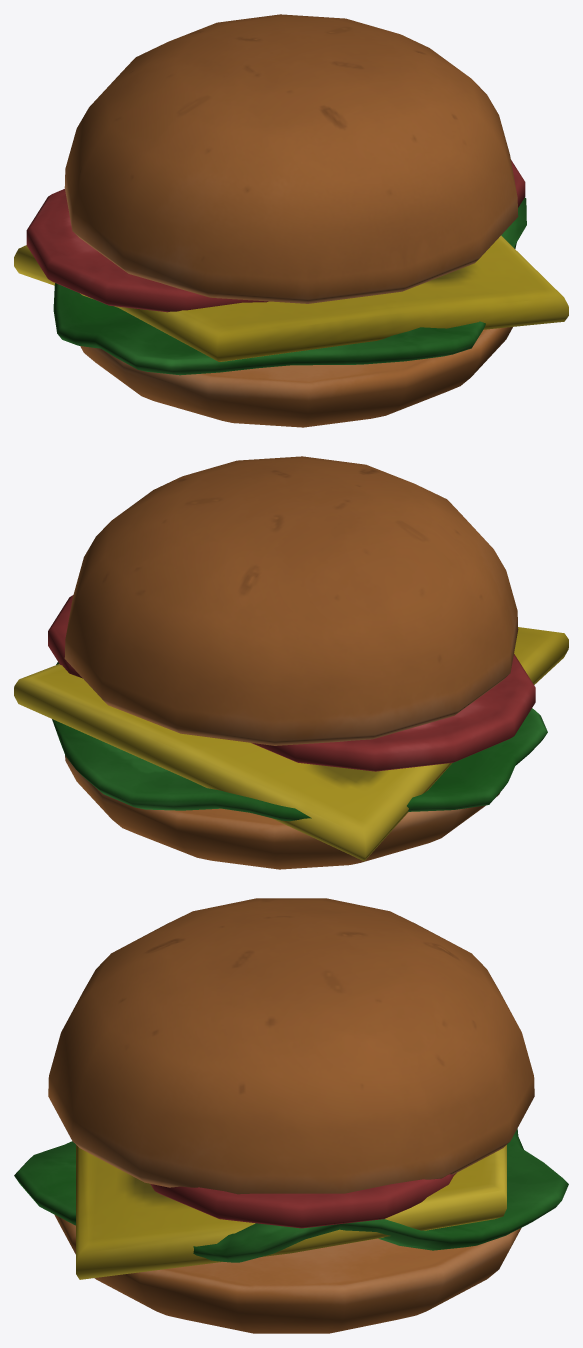
The model's file is MSH_Hamburguesa_P_L_Q_J.fbx.
The picture shows the model from 3 angles, top to bottom: view 1: azimuth 30°, elevation 25°; view 2: azimuth 150°, elevation 25°; view 3: azimuth 270°, elevation 25°; orthographic projection. The views are drawn at different scales.
Visible parts, largest first — view 1: MSH_Hamburguesa_P_C_L_Q_J; view 2: MSH_Hamburguesa_P_C_L_Q_J; view 3: MSH_Hamburguesa_P_C_L_Q_J.
Boxes of the visible parts, bbox=[...] form: MSH_Hamburguesa_P_C_L_Q_J: bbox=[14, 14, 568, 427]; MSH_Hamburguesa_P_C_L_Q_J: bbox=[14, 456, 568, 869]; MSH_Hamburguesa_P_C_L_Q_J: bbox=[14, 898, 568, 1333].
Bounding box in the file's own units: 16.81 × 16.87 × 11.05.
1 material, 1 textured.
